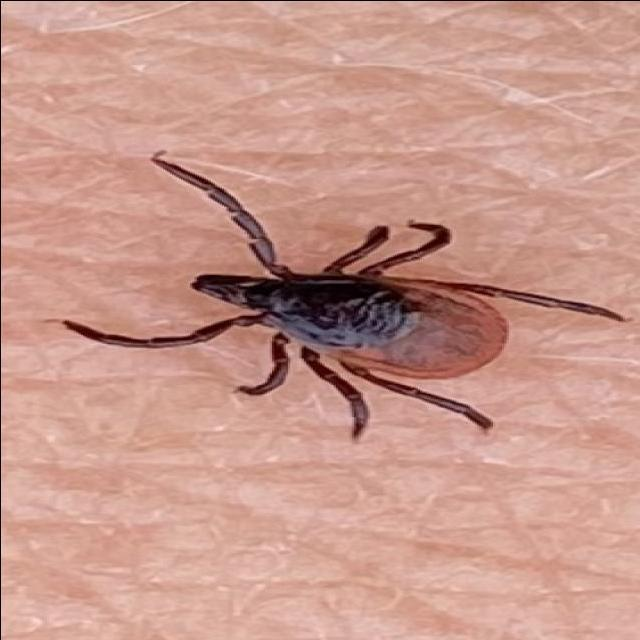Ixodes Ricinus-F: (66, 159, 620, 439)
